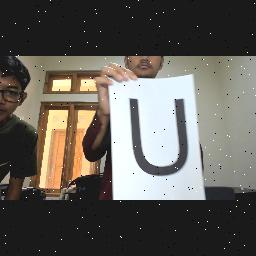u: (120, 94, 198, 184)
